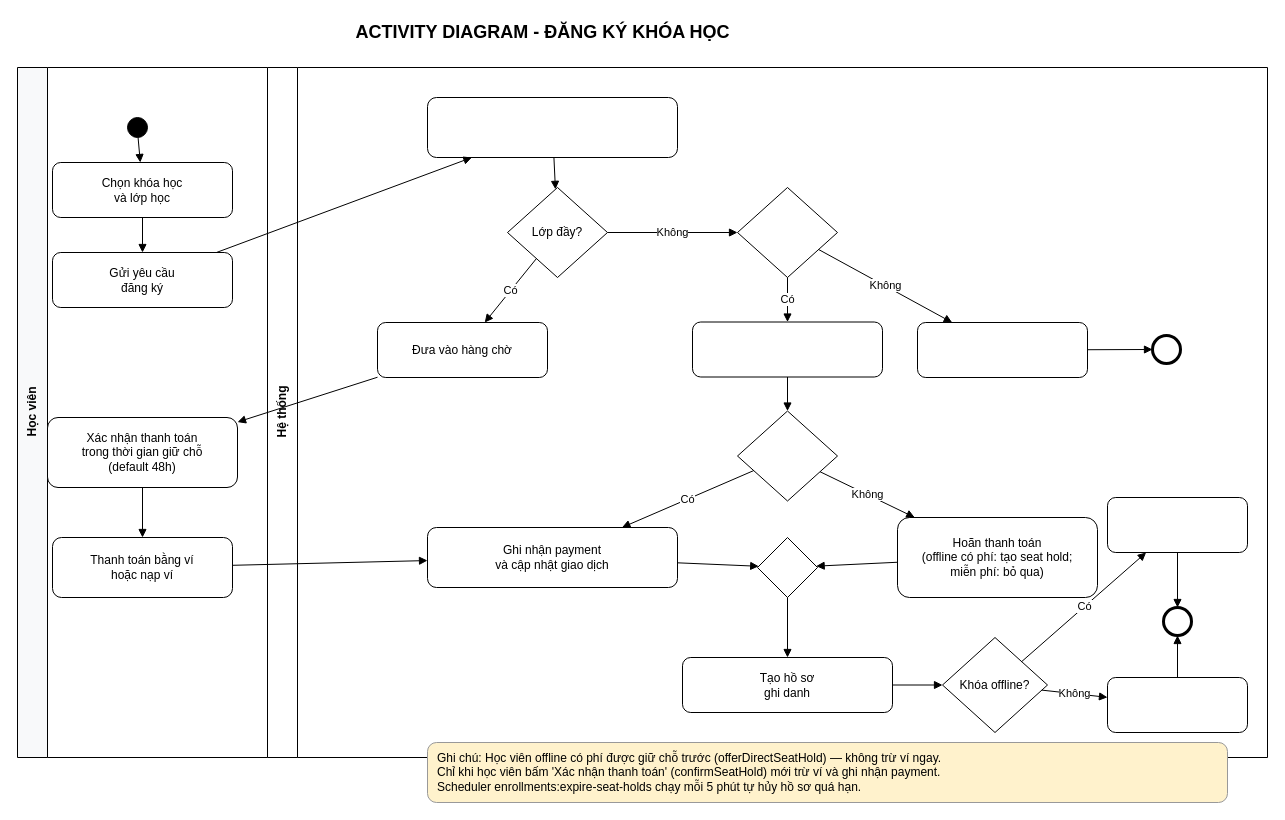
Some shapes in this 1285 by 820 pixel diagram are drawn without their labels. The shapes that lost their labels are listed below. From the top down, each one's centre as x and y in pixels, then its label:
[552,127]: Kiểm tra trạng thái khóa học và hồ sơ hiện có
[787,232]: Hợp lệ?
[787,349]: Tính học phí / khuyến mãi
[1002,350]: Thông báo lỗi / từ chối
[787,455]: Cần thu phí ngay? (online + có phí)
[1177,524]: Chờ admin duyệt
[1177,704]: Tự động duyệt và mở học
